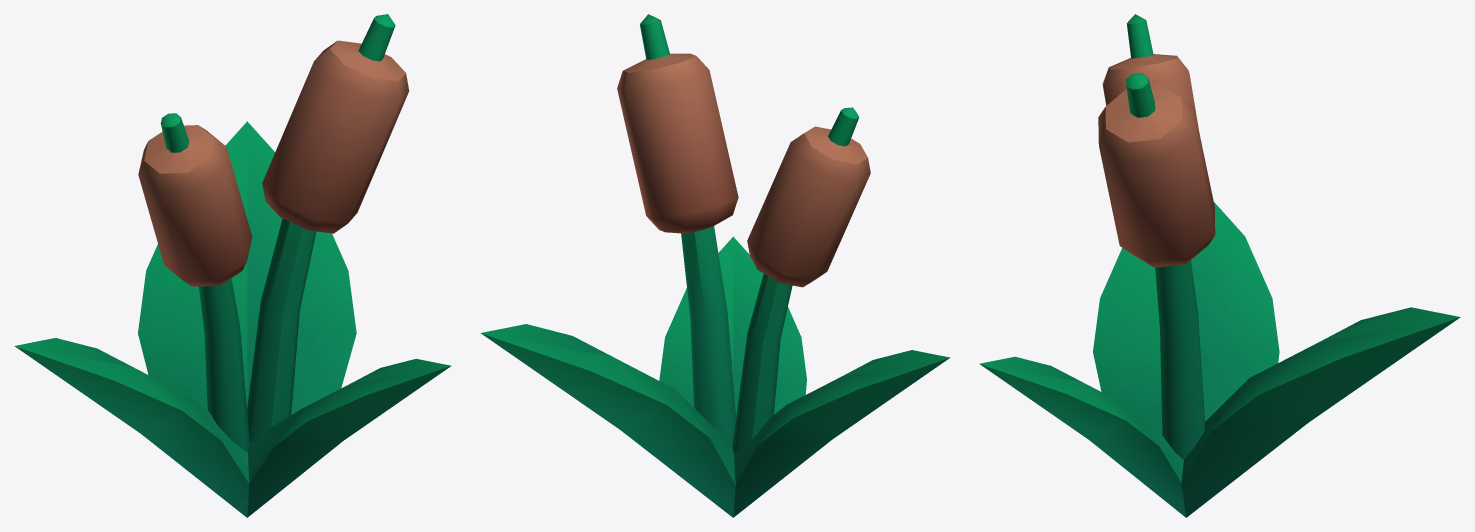
Rendered from waterplant_c.glb.
3 renders of one model, left to right at view 1: azimuth 30°, elevation 25°; view 2: azimuth 150°, elevation 25°; view 3: azimuth 270°, elevation 25°, orthographic. The views are drawn at different scales.
Visible parts, largest first — view 1: waterplant_C; view 2: waterplant_C; view 3: waterplant_C.
Boxes of the visible parts, x1,y1,x2,y2 form: waterplant_C: [14, 14, 451, 517]; waterplant_C: [481, 14, 949, 517]; waterplant_C: [979, 14, 1460, 517].
Size of the model in its own units: 0.1983 by 0.2472 by 0.2157.
1 material, 1 textured.
